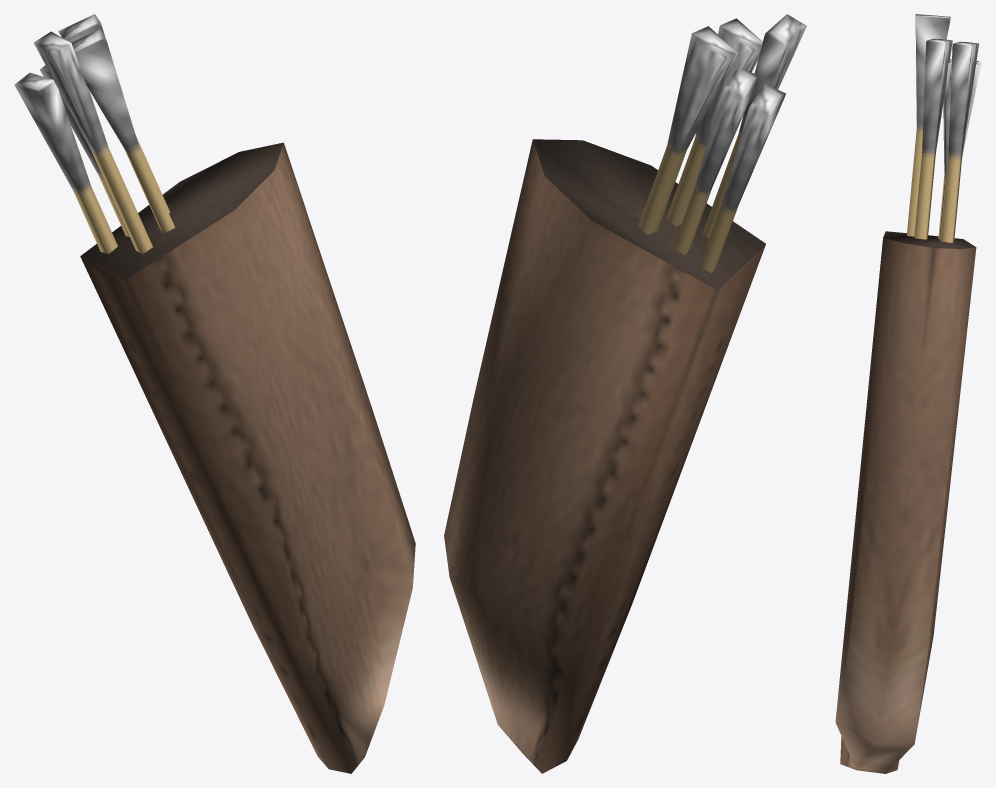
File: quiver_back.dae
The picture shows the model from 3 angles, left to right: view 1: azimuth 30°, elevation 25°; view 2: azimuth 150°, elevation 25°; view 3: azimuth 270°, elevation 25°; orthographic projection. The views are drawn at different scales.
Visible parts, largest first — view 1: Persian_Quiver_Back003; view 2: Persian_Quiver_Back003; view 3: Persian_Quiver_Back003.
Boxes of the visible parts, x1=… form: Persian_Quiver_Back003: x1=14, y1=14, x2=415, y2=773; Persian_Quiver_Back003: x1=444, y1=14, x2=806, y2=773; Persian_Quiver_Back003: x1=835, y1=14, x2=981, y2=773.
Size of the model in its own units: 0.7746 by 1.61 by 0.3251.
